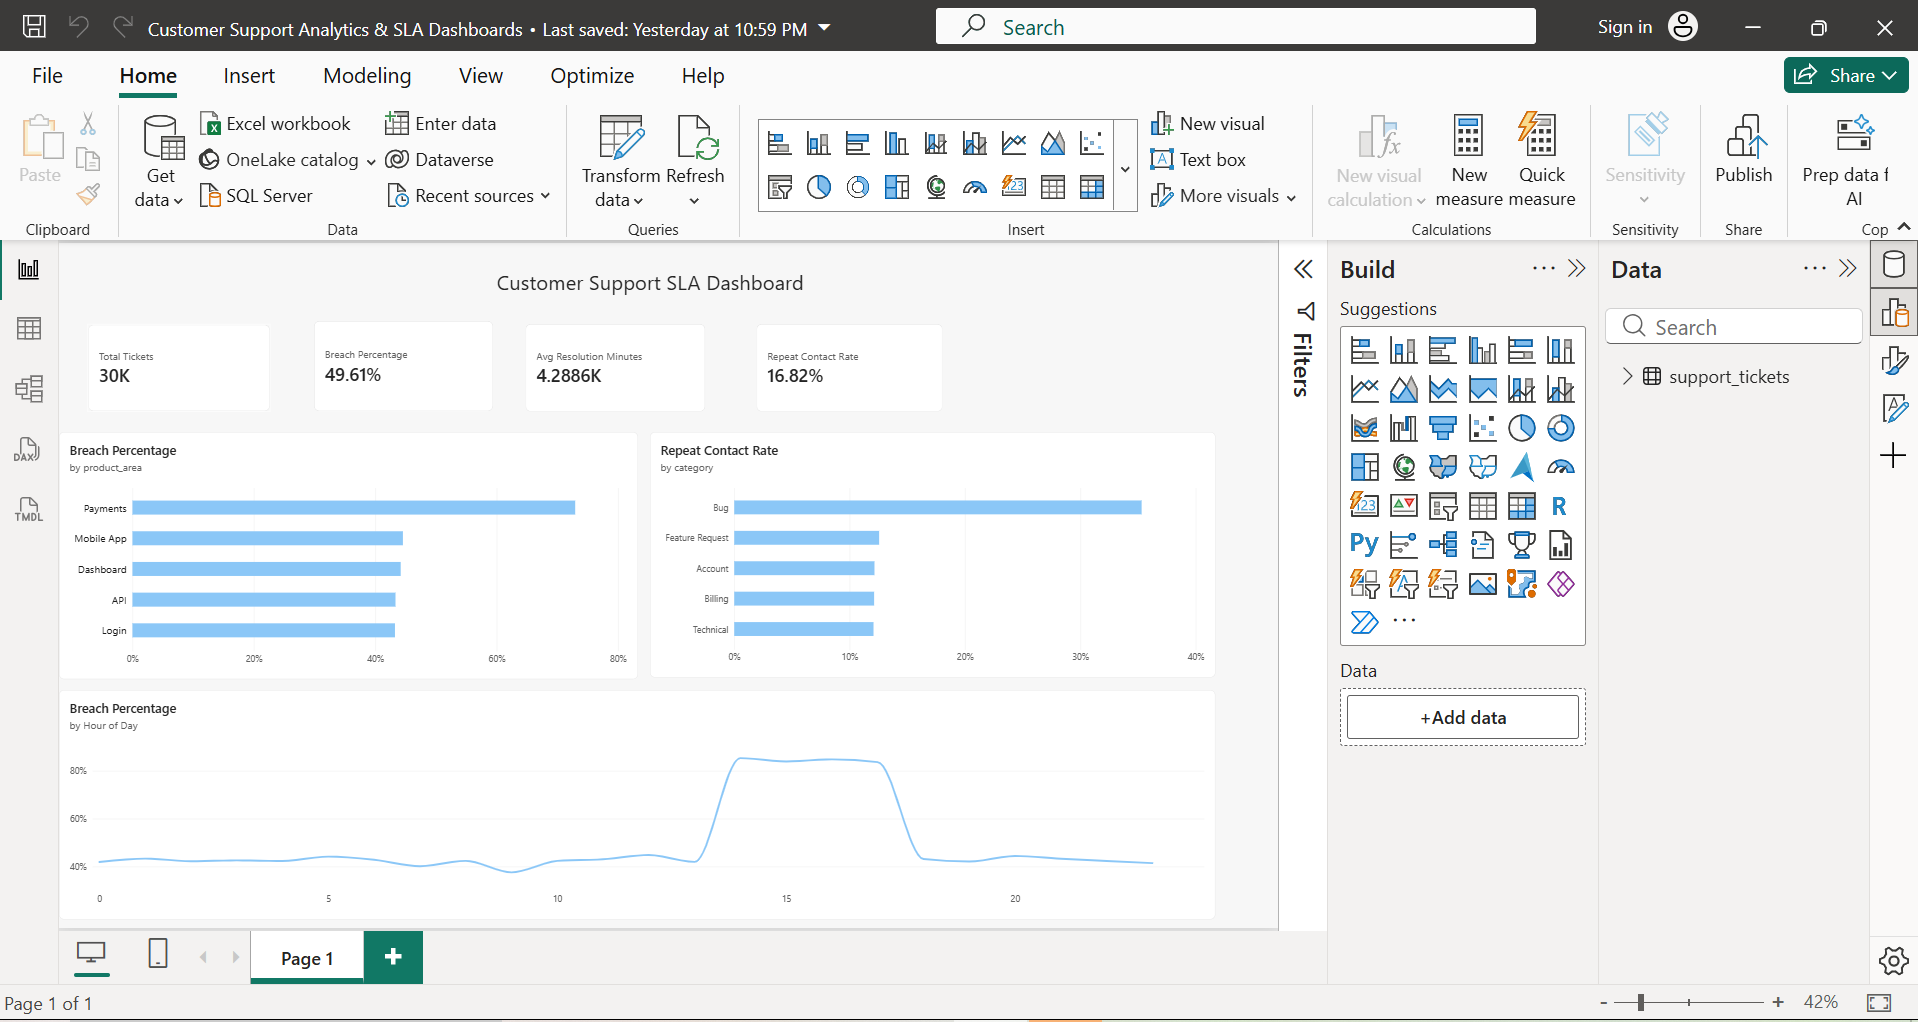

The page's visual inventory and layout, read from the dashboard file:
{"tool":"powerbi","page":{"name":"Page 1","canvas":[1920,1080],"ordinal":0},"visuals":[{"type":"cardVisual","fields":{"Data":["support_tickets.Breach Percentage"]},"box":[400.9,121.9,282.9,143],"z":0},{"type":"cardVisual","fields":{"Data":["support_tickets.Avg Resolution Minutes"]},"box":[733.8,126.6,283.7,138.3],"z":1000},{"type":"clusteredBarChart","fields":{"Category":["support_tickets.product_area"],"Y":["support_tickets.Breach Percentage"]},"box":[0,297.7,912,389.2],"z":2000},{"type":"lineChart","fields":{"Category":["support_tickets.Hour of Day"],"Y":["support_tickets.Breach Percentage"]},"box":[0,703.3,1821.7,361.1],"z":3000},{"type":"clusteredBarChart","fields":{"Category":["support_tickets.category"],"Y":["support_tickets.Repeat Contact Rate"]},"box":[930.8,297.7,890.9,386.8],"z":4000},{"type":"cardVisual","fields":{"Data":["support_tickets.Repeat Contact Rate"]},"box":[1099.6,126.6,293.1,138.3],"z":5000},{"type":"cardVisual","fields":{"Data":["support_tickets.Total Tickets"]},"box":[44.5,126.6,288.4,138.3],"z":6000},{"type":"textbox","box":[400.9,2.3,1059.7,96.1],"z":7000}]}

Visuals, with their boxes on the page's 1920x1080 design canvas (x1, y1, x2, y2). These are canvas units, not pixel positions in the 1918x1022 screenshot, which may show the page scaled, cropped or inside an application window:
cardVisual - support_tickets.Breach Percentage: rect(401, 122, 684, 265)
cardVisual - support_tickets.Avg Resolution Minutes: rect(734, 127, 1018, 265)
clusteredBarChart - support_tickets.product_area x support_tickets.Breach Percentage: rect(0, 298, 912, 687)
lineChart - support_tickets.Hour of Day x support_tickets.Breach Percentage: rect(0, 703, 1822, 1064)
clusteredBarChart - support_tickets.category x support_tickets.Repeat Contact Rate: rect(931, 298, 1822, 684)
cardVisual - support_tickets.Repeat Contact Rate: rect(1100, 127, 1393, 265)
cardVisual - support_tickets.Total Tickets: rect(44, 127, 333, 265)
textbox: rect(401, 2, 1461, 98)
